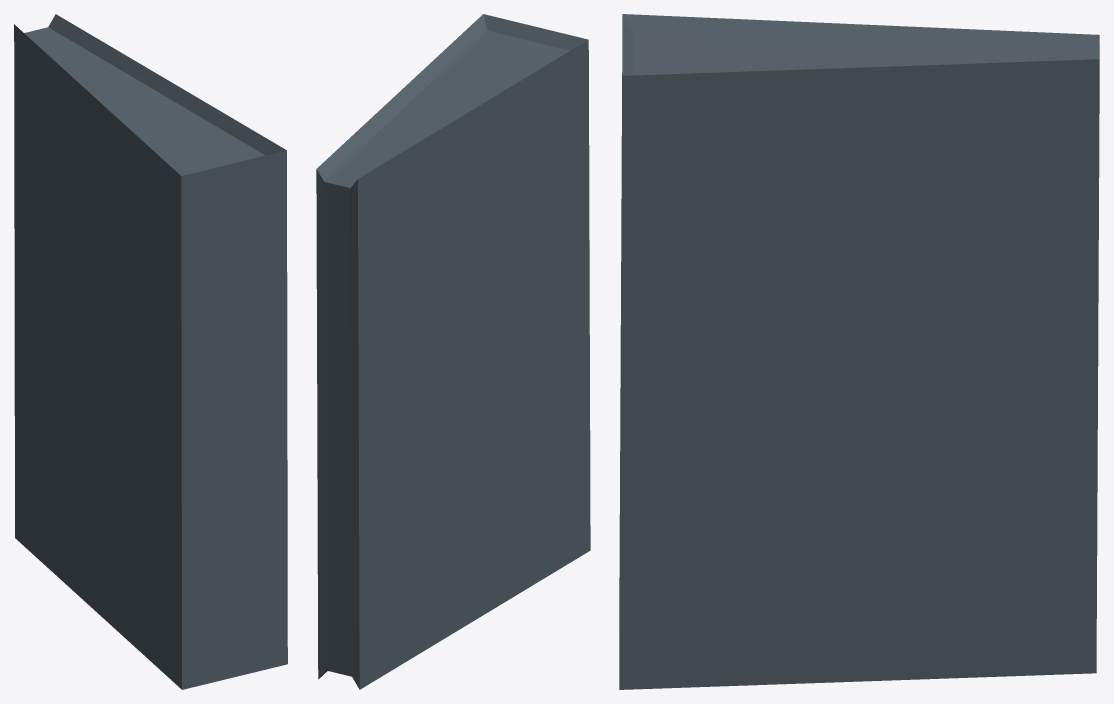
File: 09_file_binder_alt_1.glb
3 views of the same model, side by side, from view 1: azimuth 30°, elevation 25°; view 2: azimuth 150°, elevation 25°; view 3: azimuth 270°, elevation 25° (orthographic). The views are drawn at different scales.
Visible parts, largest first — view 1: file_binder_alt; view 2: file_binder_alt; view 3: file_binder_alt.
Part boxes in pixels (bbox=[...]): file_binder_alt: bbox=[14, 14, 287, 689]; file_binder_alt: bbox=[316, 14, 590, 689]; file_binder_alt: bbox=[619, 14, 1099, 689].
Size of the model in its own units: 0.0915 by 0.4239 by 0.2995.
